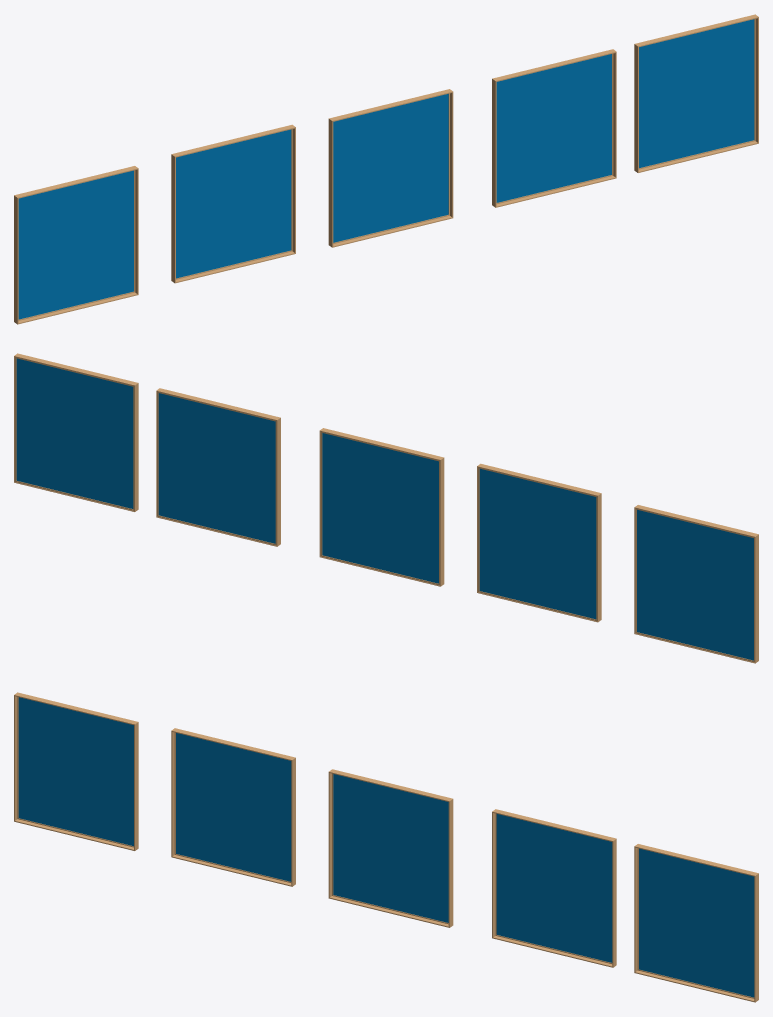
The model's file is randomEmptyHouseProj_3ZDgRRt$L4C8_EHOzR3l9j-Level 1_IfcWindow.dae.
3 views of the same model, one above another, from view 1: azimuth 30°, elevation 25°; view 2: azimuth 150°, elevation 25°; view 3: azimuth 330°, elevation 25° (orthographic).
Visible parts, largest first — view 1: 0WZmLWcPL1pu_Vf6vRMGUR, 0WZmLWcPL1pu_Vf6vRMGDZ, 0WZmLWcPL1pu_Vf6vRMGV_, 0WZmLWcPL1pu_Vf6vRMGT_, 0WZmLWcPL1pu_Vf6vRMGSd; view 2: 0WZmLWcPL1pu_Vf6vRMGUR, 0WZmLWcPL1pu_Vf6vRMGDZ, 0WZmLWcPL1pu_Vf6vRMGV_, 0WZmLWcPL1pu_Vf6vRMGT_, 0WZmLWcPL1pu_Vf6vRMGSd; view 3: 0WZmLWcPL1pu_Vf6vRMGUR, 0WZmLWcPL1pu_Vf6vRMGV_, 0WZmLWcPL1pu_Vf6vRMGDZ, 0WZmLWcPL1pu_Vf6vRMGT_, 0WZmLWcPL1pu_Vf6vRMGSd.
Part boxes in pixels (bbox=[...]): 0WZmLWcPL1pu_Vf6vRMGUR: bbox=[328, 89, 453, 247]; 0WZmLWcPL1pu_Vf6vRMGDZ: bbox=[171, 124, 295, 283]; 0WZmLWcPL1pu_Vf6vRMGV_: bbox=[492, 49, 616, 207]; 0WZmLWcPL1pu_Vf6vRMGT_: bbox=[634, 14, 758, 172]; 0WZmLWcPL1pu_Vf6vRMGSd: bbox=[14, 166, 138, 324]; 0WZmLWcPL1pu_Vf6vRMGUR: bbox=[319, 428, 444, 586]; 0WZmLWcPL1pu_Vf6vRMGDZ: bbox=[477, 463, 601, 622]; 0WZmLWcPL1pu_Vf6vRMGV_: bbox=[156, 388, 280, 546]; 0WZmLWcPL1pu_Vf6vRMGT_: bbox=[14, 353, 138, 511]; 0WZmLWcPL1pu_Vf6vRMGSd: bbox=[634, 505, 758, 663]; 0WZmLWcPL1pu_Vf6vRMGUR: bbox=[328, 769, 453, 927]; 0WZmLWcPL1pu_Vf6vRMGV_: bbox=[492, 809, 616, 967]; 0WZmLWcPL1pu_Vf6vRMGDZ: bbox=[171, 728, 295, 886]; 0WZmLWcPL1pu_Vf6vRMGT_: bbox=[634, 844, 758, 1002]; 0WZmLWcPL1pu_Vf6vRMGSd: bbox=[14, 692, 138, 850].
Size of the model in its own units: 24.5 by 0.2032 by 4.09.
